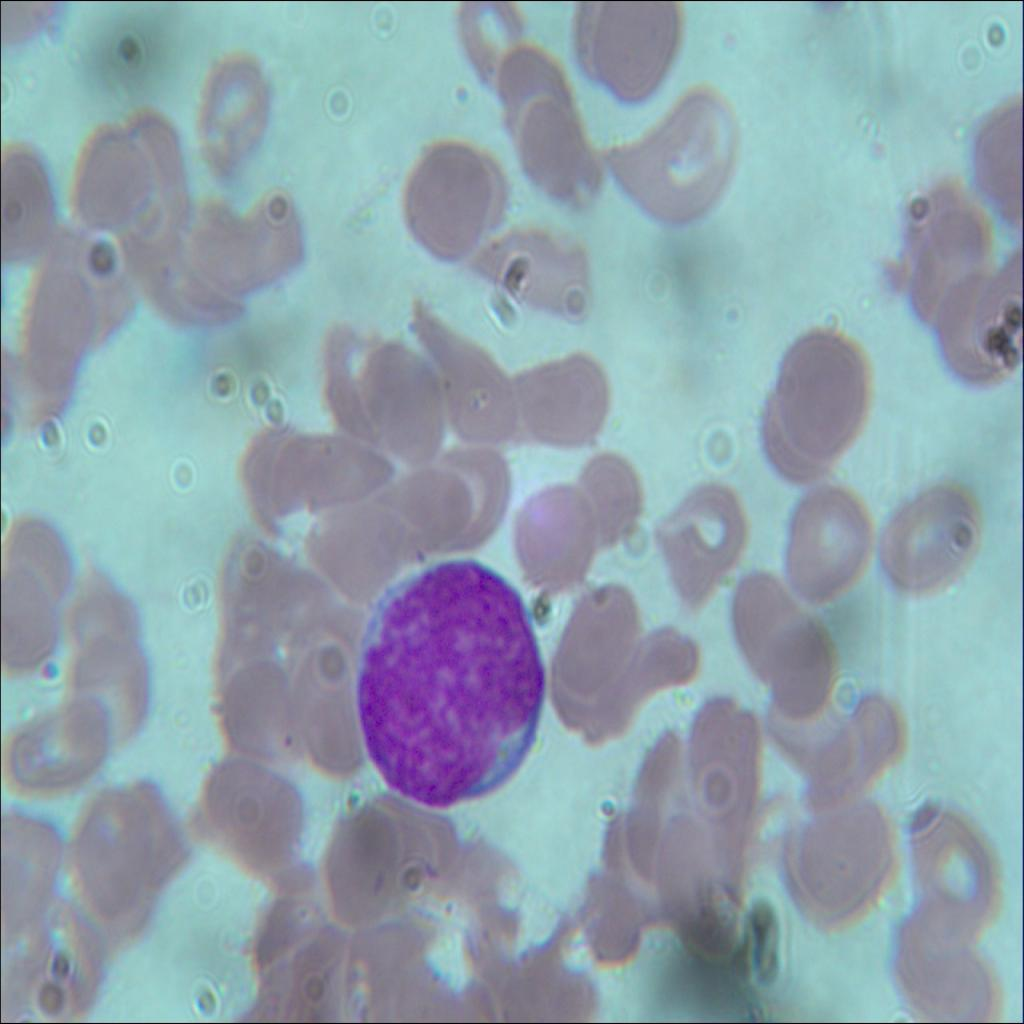Eritrosit: (618, 81, 741, 238), (762, 322, 871, 468), (398, 130, 501, 272), (895, 178, 986, 328), (426, 318, 524, 457), (198, 191, 314, 308), (886, 904, 999, 1023), (790, 794, 893, 920), (584, 0, 690, 121), (659, 474, 748, 616), (201, 751, 304, 871), (778, 479, 876, 604), (554, 584, 642, 722), (929, 264, 1023, 392), (315, 808, 413, 930), (879, 482, 978, 599), (344, 909, 444, 1023), (356, 335, 446, 461), (771, 691, 881, 794), (81, 785, 173, 908), (368, 794, 470, 904), (909, 802, 1001, 922), (288, 624, 364, 767), (512, 340, 606, 454), (686, 688, 763, 826), (14, 264, 90, 402), (286, 414, 399, 505), (490, 225, 592, 324), (578, 832, 662, 951), (566, 437, 646, 561), (190, 50, 273, 169), (304, 485, 398, 589), (8, 698, 102, 802), (515, 481, 594, 604), (523, 100, 604, 218), (72, 118, 154, 234), (664, 817, 738, 945), (260, 904, 342, 1014), (26, 908, 106, 1018), (326, 315, 391, 450), (0, 540, 61, 682), (434, 444, 511, 554), (491, 42, 574, 144), (626, 735, 698, 851), (69, 642, 149, 745), (214, 539, 292, 644), (0, 799, 64, 925), (226, 652, 296, 762), (0, 150, 63, 264), (76, 580, 142, 684), (769, 619, 835, 719), (391, 471, 463, 558), (734, 568, 798, 664), (239, 429, 299, 525), (459, 0, 518, 94)
Limfoblast: (354, 559, 548, 807)
Platelet: (455, 72, 474, 115), (40, 658, 58, 690)
